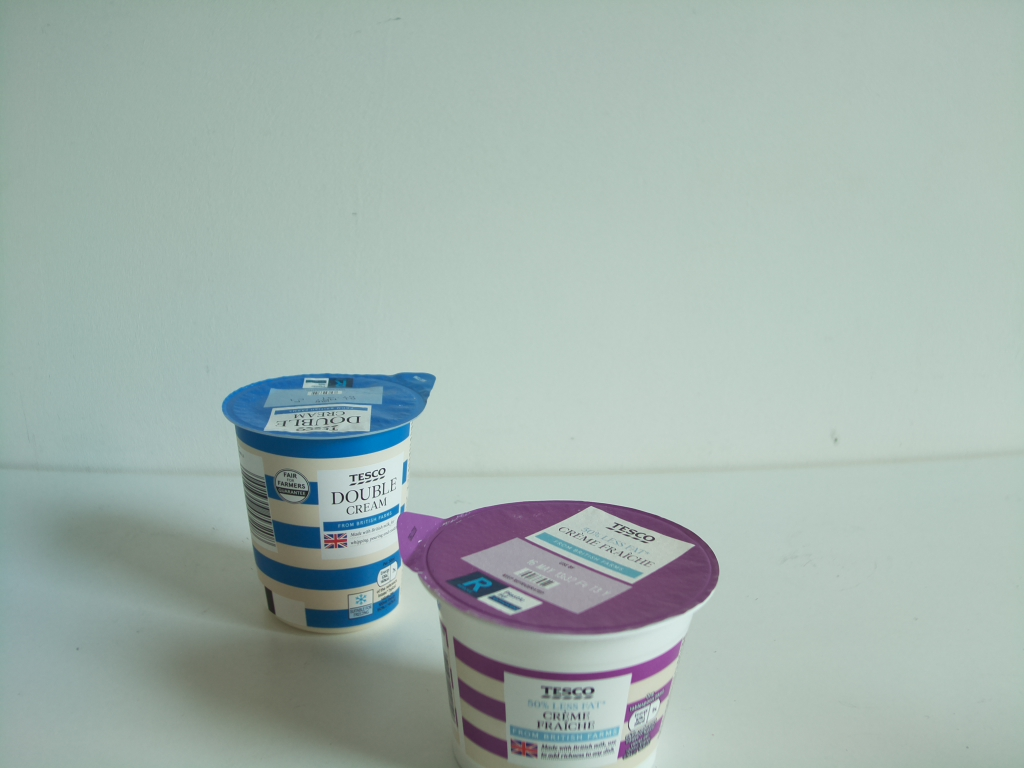cream: (394, 503, 719, 768), (217, 373, 440, 633)
